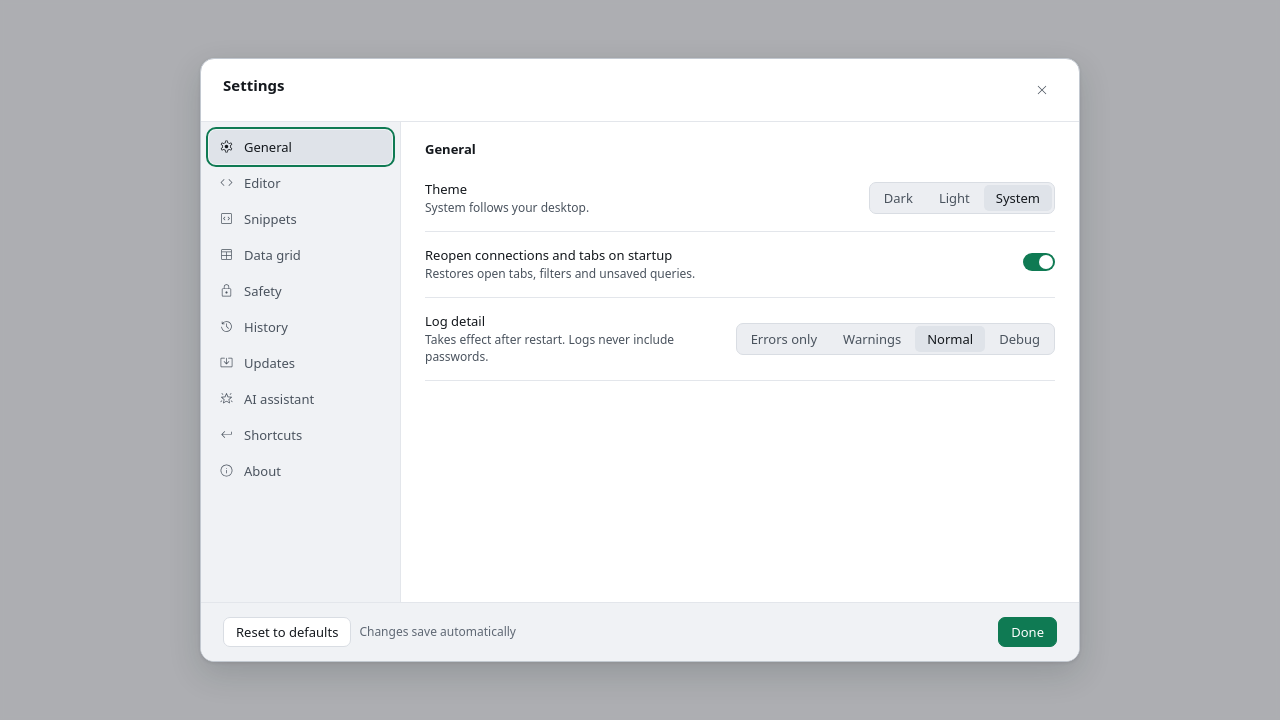
it: SettingsDialog › states where data lives and what leaves the computer
Click the button "About": (300, 471) [209,454,392,488]
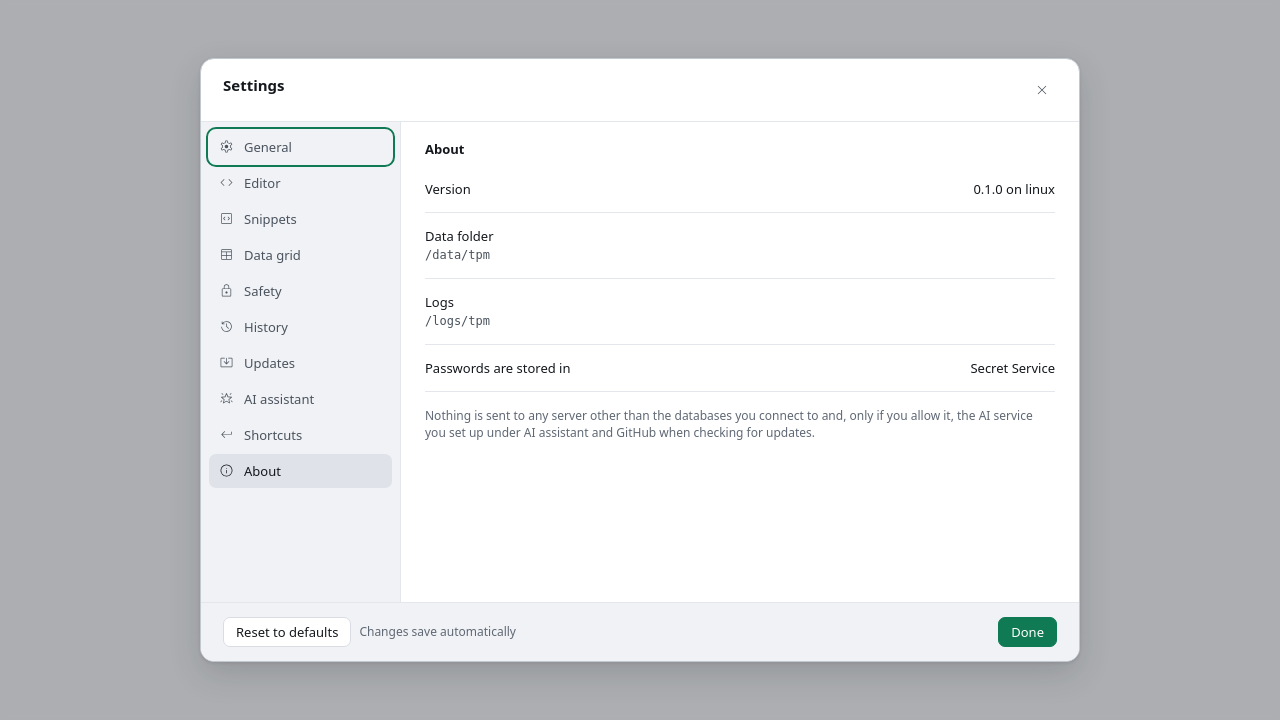
Result: the text "/data/tpm" is shown at [425,248,490,262]
Result: the text "Nothing is sent to any server other than the databases you connect to" is shown at [425,407,1033,441]
